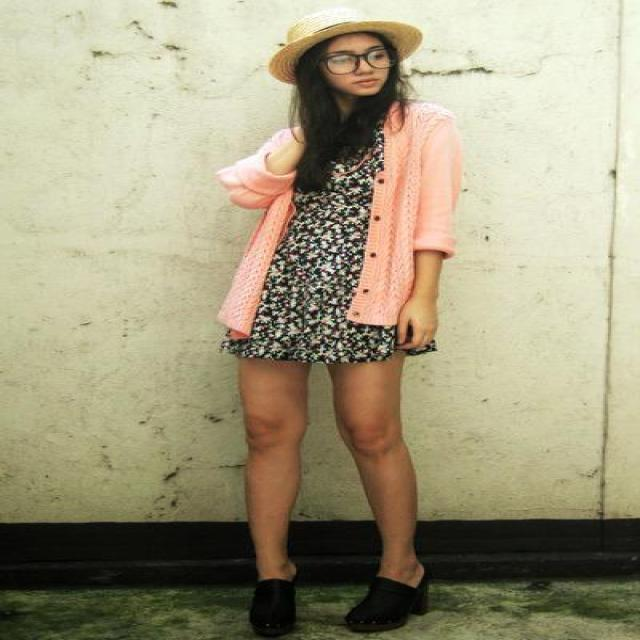dress: (227, 148, 435, 370)
hat: (269, 22, 438, 88)
jacket: (203, 115, 462, 356)
shoe: (250, 576, 427, 639)
